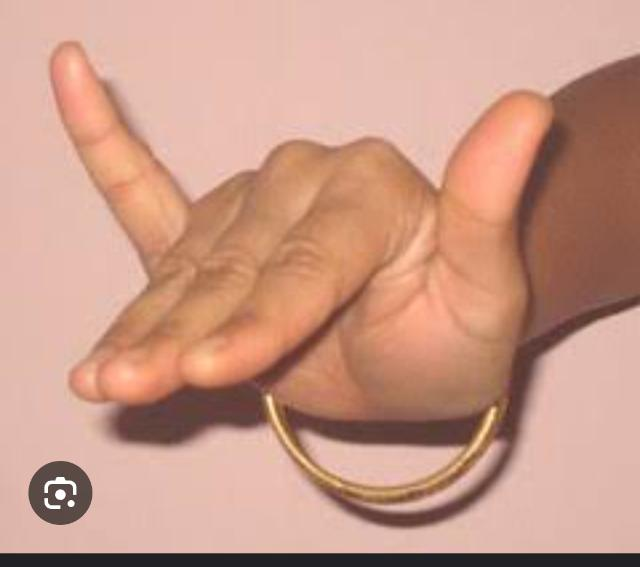mrighasheesh: (48, 44, 640, 435)
